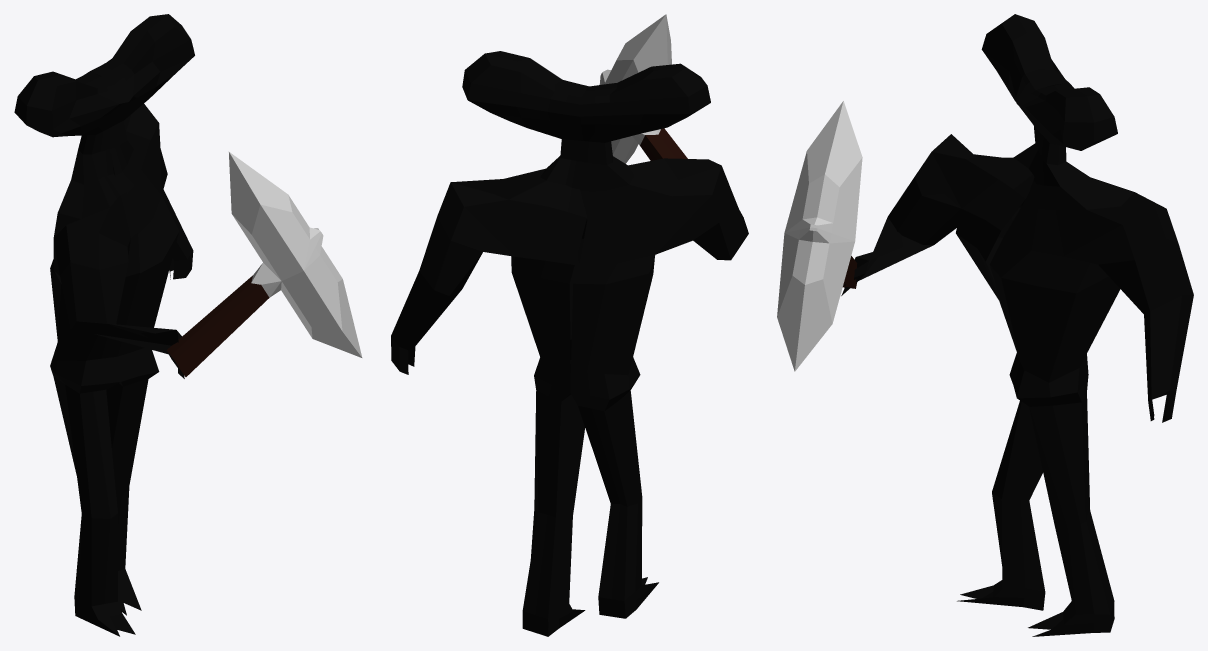
The model's file is Giant3a.obj.
3 renders of one model, left to right at view 1: azimuth 30°, elevation 25°; view 2: azimuth 150°, elevation 25°; view 3: azimuth 270°, elevation 25°, orthographic.
Parts seen in each view (by area): view 1: Cube; view 2: Cube; view 3: Cube.
Part boxes in pixels (x1,y1,x2,y2): Cube: [14, 14, 362, 636]; Cube: [391, 14, 748, 636]; Cube: [777, 14, 1193, 636].
Size of the model in its own units: 0.6885 by 1.54 by 1.02.
